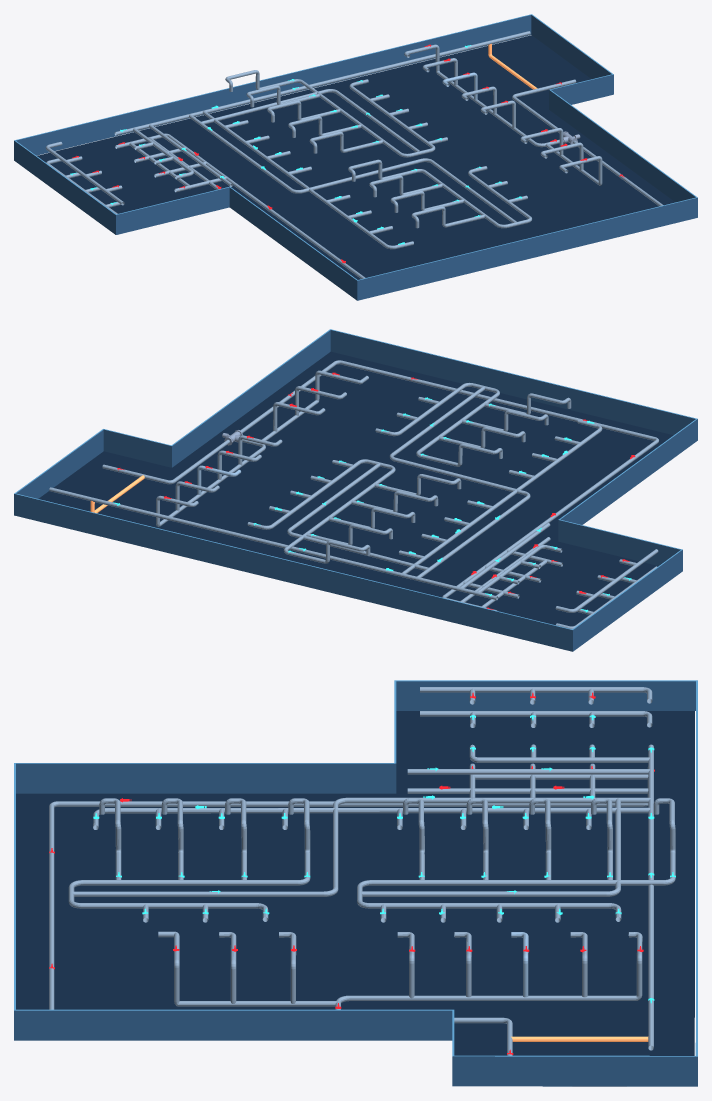
3 renders of one model, top to bottom at view 1: azimuth 30°, elevation 25°; view 2: azimuth 150°, elevation 25°; view 3: azimuth 270°, elevation 25°, orthographic. The views are drawn at different scales.
Visible parts, largest first — view 1: 平面.048, 平面, 平面.003, 平面.009, 平面.049, 平面.006, 平面.107, 平面.024, 平面.002, 平面.099, 平面.008, 平面.152 (+2 smaller); view 2: 平面.048, 平面, 平面.003, 平面.009, 平面.049, 平面.006, 平面.107, 平面.024, 平面.002, 平面.099, 平面.008, 平面.152; view 3: 平面.048, 平面, 平面.003, 平面.009, 平面.006, 平面.049, 平面.107, 平面.024, 平面.099, 平面.002, 平面.008, 平面.014 (+11 smaller).
Part boxes in pixels (box(x1,y1,x2,y2)): 平面.048: box(37, 35, 675, 279); 平面: box(14, 15, 697, 300); 平面.003: box(114, 31, 530, 222); 平面.009: box(115, 79, 663, 278); 平面.049: box(14, 14, 697, 280); 平面.006: box(225, 70, 435, 157); 平面.107: box(348, 159, 531, 228); 平面.024: box(202, 110, 413, 249); 平面.002: box(201, 89, 419, 151); 平面.099: box(404, 44, 559, 147); 平面.008: box(45, 141, 124, 205); 平面.152: box(545, 143, 602, 185); 平面.048: box(38, 351, 673, 626); 平面: box(14, 330, 697, 651); 平面.003: box(49, 386, 562, 600); 平面.009: box(102, 360, 658, 610); 平面.049: box(14, 329, 697, 629); 平面.006: box(247, 459, 395, 563); 平面.107: box(375, 382, 502, 466); 平面.024: box(402, 419, 602, 573); 平面.002: box(287, 463, 428, 570); 平面.099: box(156, 439, 265, 526); 平面.008: box(555, 549, 658, 612); 平面.152: box(262, 370, 368, 440); 平面.048: box(16, 711, 694, 1086); 平面: box(14, 681, 697, 1086); 平面.003: box(72, 744, 653, 1050); 平面.009: box(49, 763, 648, 1055); 平面.006: box(357, 798, 675, 921); 平面.049: box(14, 680, 697, 1056); 平面.107: box(68, 798, 310, 921); 平面.024: box(93, 807, 650, 829); 平面.099: box(335, 932, 642, 1009); 平面.002: box(361, 798, 620, 896); 平面.008: box(420, 687, 652, 704); 平面.014: box(420, 711, 652, 727).
Bounding box in the file's own units: 19.19 × 1.42 × 14.74.
